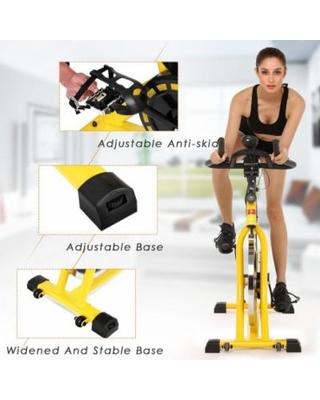gym_bike: (199, 147, 309, 362)
